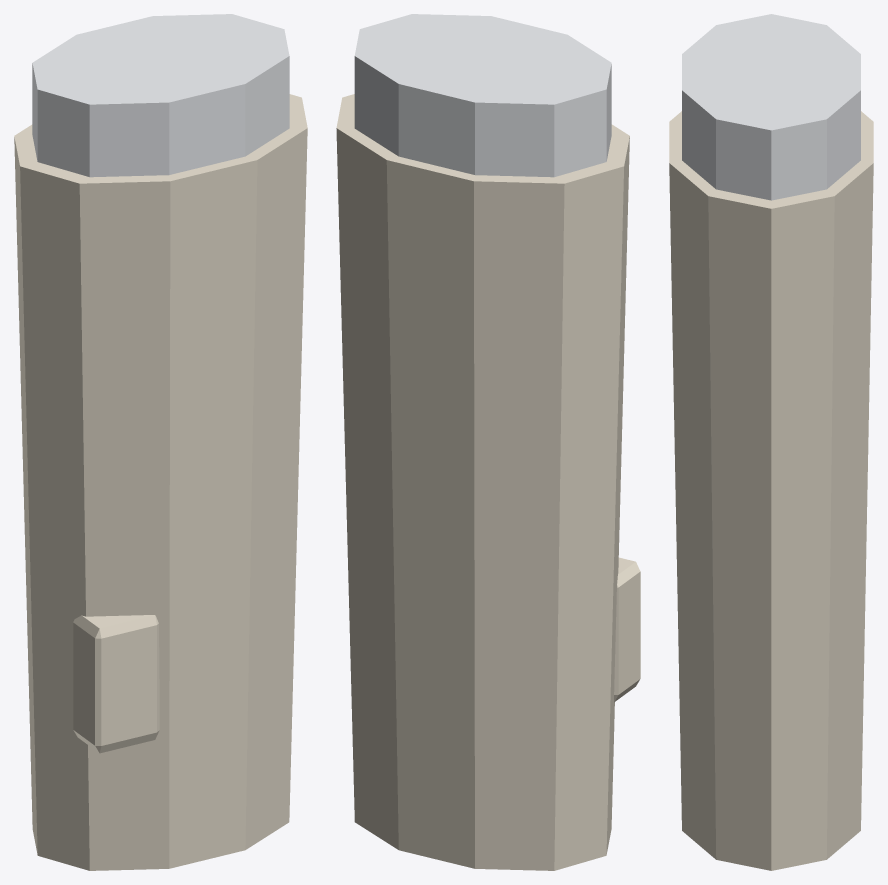
File: b17_ribbed_rolling_suitcase.glb
The picture shows the model from 3 angles, left to right: view 1: azimuth 30°, elevation 25°; view 2: azimuth 150°, elevation 25°; view 3: azimuth 270°, elevation 25°; orthographic projection. The views are drawn at different scales.
Visible parts, largest first — view 1: b17_ribbed_rolling_suitcase; view 2: b17_ribbed_rolling_suitcase; view 3: b17_ribbed_rolling_suitcase.
Part boxes in pixels (x1=…): b17_ribbed_rolling_suitcase: x1=14, y1=14, x2=307, y2=870; b17_ribbed_rolling_suitcase: x1=336, y1=14, x2=640, y2=870; b17_ribbed_rolling_suitcase: x1=669, y1=14, x2=873, y2=870.
Bounding box in the file's own units: 0.383 × 0.995 × 0.249.
